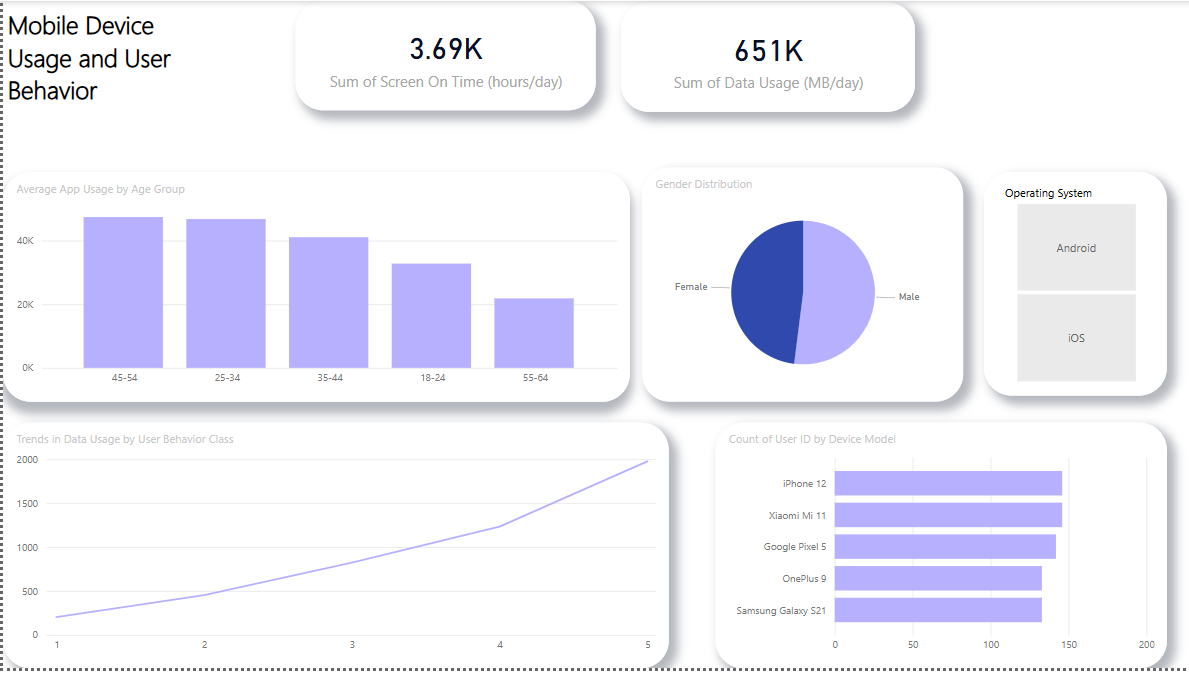

What the dashboard file says about the page in this screenshot:
{"tool":"powerbi","page":{"name":"Page ١","canvas":[1280,720],"ordinal":0},"visuals":[{"type":"columnChart","title":" Average App Usage by Age Group","fields":{"Category":["user_behavior_dataset.Age Group"],"Y":["Sum(user_behavior_dataset.App Usage Time (min/day))"]},"box":[0,184.6,676.8,247.7],"z":0},{"type":"pieChart","title":"Gender Distribution","fields":{"Category":["user_behavior_dataset.Gender"],"Y":["CountNonNull(user_behavior_dataset.User ID)"]},"box":[689.8,179.7,346.5,252.6],"z":2000},{"type":"lineChart","title":"Trends in Data Usage by User Behavior Class","fields":{"Category":["user_behavior_dataset.User Behavior Class"],"Y":["Avg(user_behavior_dataset.Data Usage (MB/day))"]},"box":[0,455,718.9,265.6],"z":3000},{"type":"slicer","fields":{"Values":["user_behavior_dataset.Operating System"]},"box":[1059,184.6,197.5,241.3],"z":3001},{"type":"card","fields":{"Values":["Sum(user_behavior_dataset.Screen On Time (hours/day))"]},"box":[315.7,0,323.8,118.2],"z":3002},{"type":"card","fields":{"Values":["Sum(user_behavior_dataset.Data Usage (MB/day))"]},"box":[667.1,1.6,317.4,118.2],"z":3003},{"type":"barChart","fields":{"Category":["user_behavior_dataset.Device Model"],"Y":["CountNonNull(user_behavior_dataset.User ID)"]},"box":[769.1,455,487.4,265.6],"z":3004},{"type":"textbox","box":[0,1.6,226.7,116.6],"z":3005}]}

Visuals, with their boxes in screenshot pixels (x1, y1, x2, y2), scaled from the page's 1280x720 canvas onto the 1189x673 screenshot:
" Average App Usage by Age Group" columnChart: region(0, 173, 629, 404)
"Gender Distribution" pieChart: region(641, 168, 963, 404)
"Trends in Data Usage by User Behavior Class" lineChart: region(0, 425, 668, 672)
slicer - user_behavior_dataset.Operating System: region(984, 173, 1167, 398)
card - Sum(user_behavior_dataset.Screen On Time (hours/day)): region(293, 0, 594, 110)
card - Sum(user_behavior_dataset.Data Usage (MB/day)): region(620, 1, 915, 112)
barChart - user_behavior_dataset.Device Model x CountNonNull(user_behavior_dataset.User ID): region(714, 425, 1167, 672)
textbox: region(0, 1, 211, 110)
